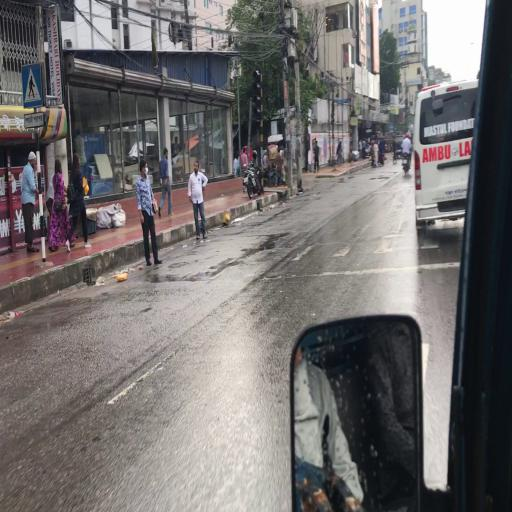ambulance: (415, 79, 476, 234)
motorbike: (243, 167, 265, 200), (402, 135, 412, 176)
rickshaw: (268, 145, 281, 189), (245, 145, 254, 166)
